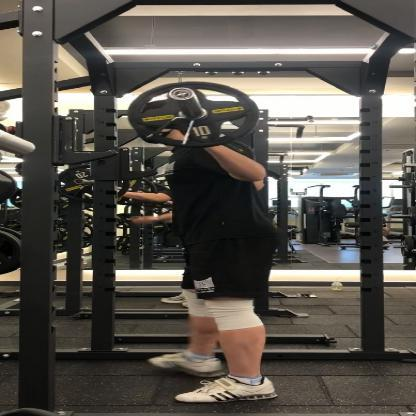Barbell: (163, 87, 200, 103)
